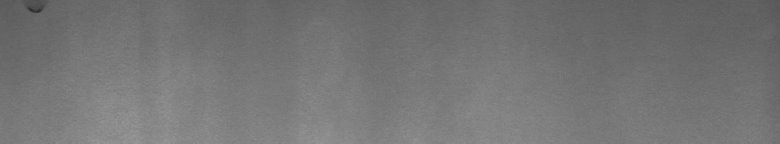fi: (24, 4, 45, 20)
